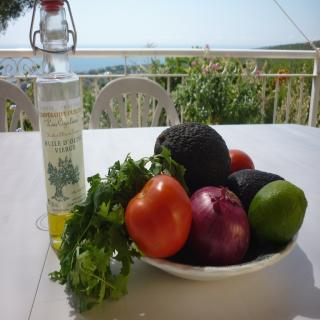tomato: (126, 174, 195, 259), (228, 148, 256, 176)
